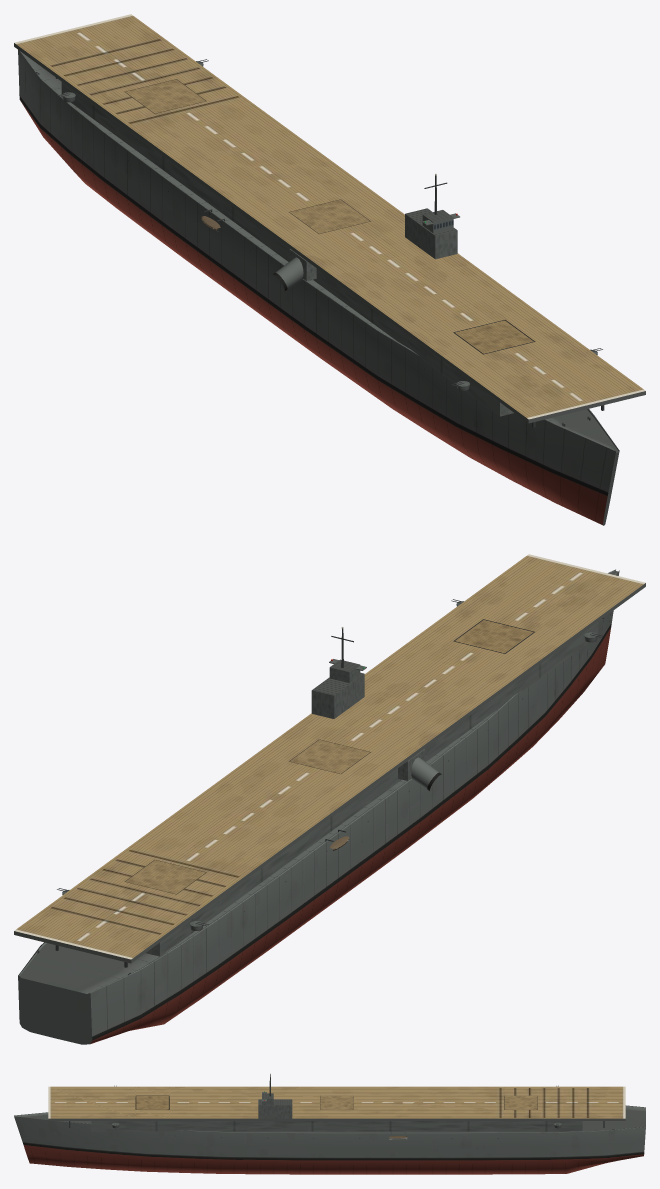
The model's file is carrier.glb.
3 views of the same model, one above another, from view 1: azimuth 30°, elevation 25°; view 2: azimuth 150°, elevation 25°; view 3: azimuth 270°, elevation 25° (orthographic). The views are drawn at different scales.
Visible parts, largest first — view 1: hull, ascenseur; view 2: hull, ascenseur; view 3: hull, ascenseur.
Boxes of the visible parts, x1=… form: hull: x1=14, y1=14, x2=645, y2=525; ascenseur: x1=453, y1=320, x2=534, y2=354; hull: x1=14, y1=554, x2=645, y2=1044; ascenseur: x1=453, y1=619, x2=534, y2=653; hull: x1=14, y1=1073, x2=645, y2=1174; ascenseur: x1=136, y1=1095, x2=169, y2=1109.
Size of the model in its own units: 42.04 by 46.82 by 261.
7 materials, 6 textured.
